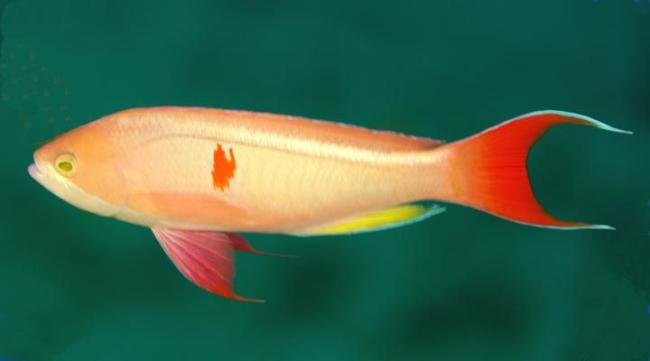fish: (26, 104, 634, 304)
